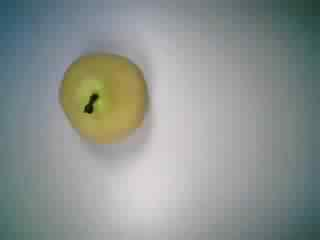pear: (51, 43, 156, 146)
